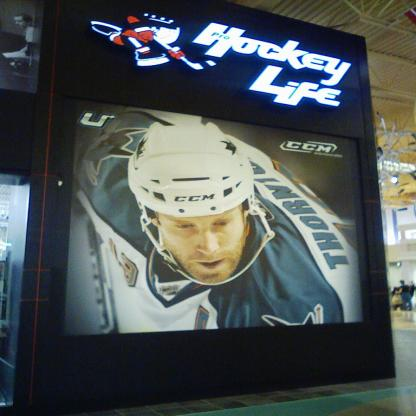Helmet: (134, 117, 261, 283)
